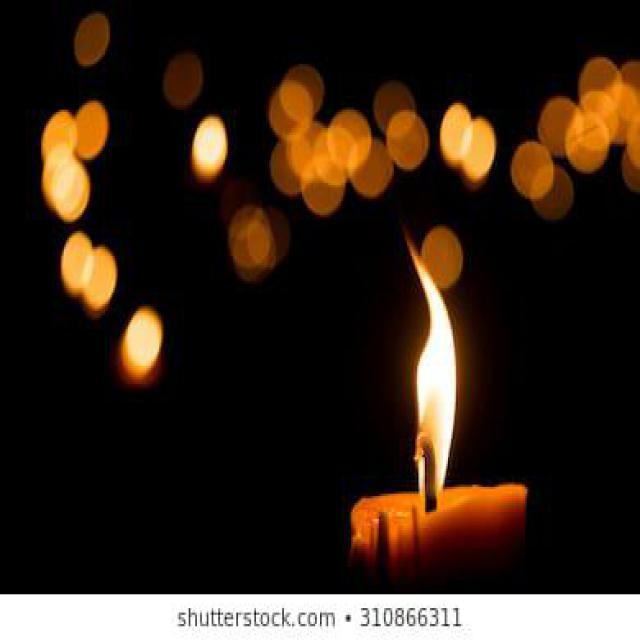Fire: (400, 224, 456, 503)
